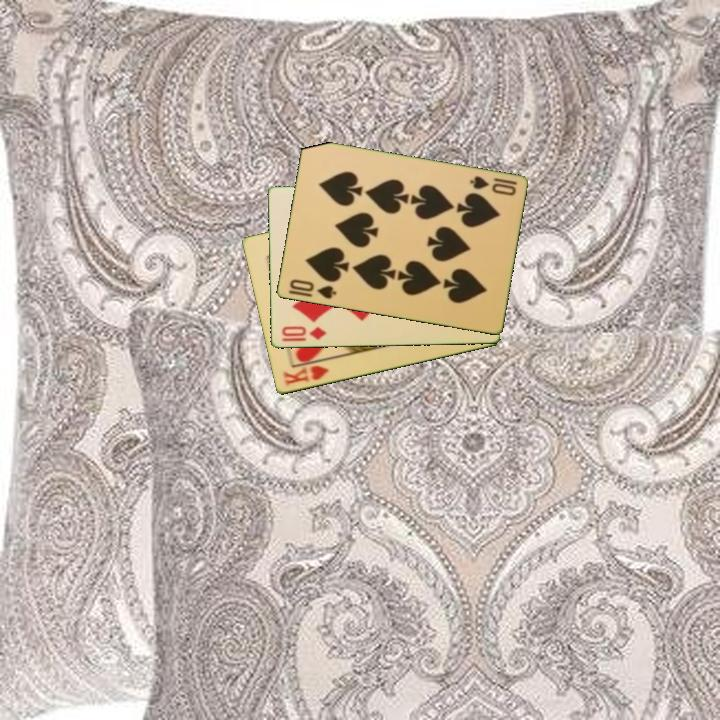10d: (278, 323, 329, 344)
10s: (286, 276, 339, 302), (466, 173, 519, 199)
Kh: (280, 356, 333, 390)
